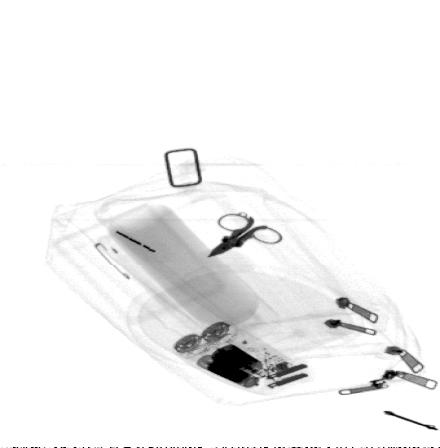Scissors: (208, 211, 285, 257)
